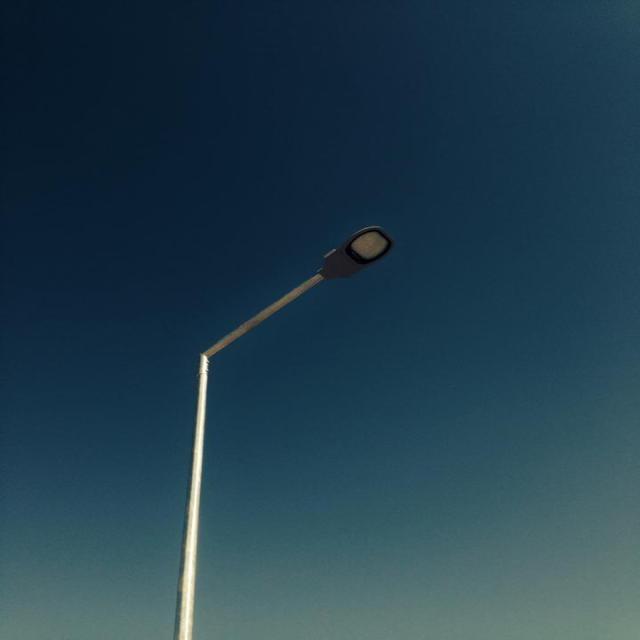Street Light: (177, 226, 398, 640)
